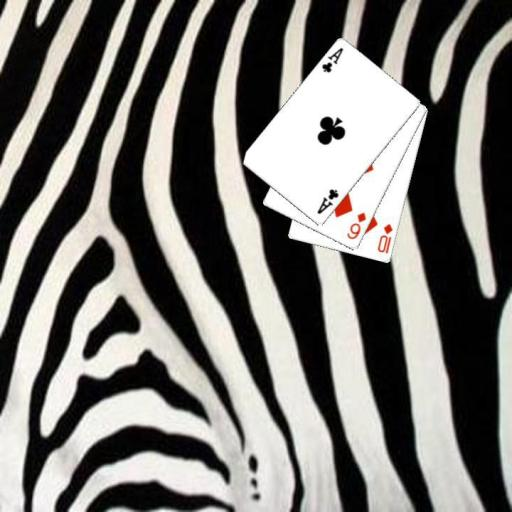10D: (375, 221, 394, 256)
6D: (344, 209, 368, 241)
AC: (318, 45, 345, 75), (314, 186, 340, 216)
